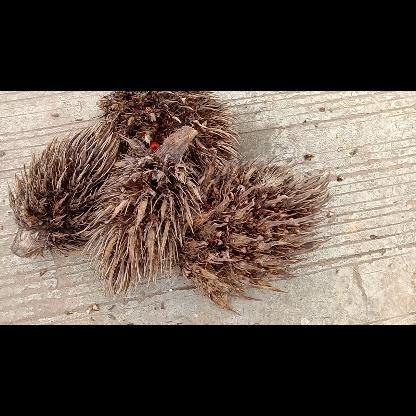Janjang kosong: (177, 155, 333, 315), (80, 126, 204, 298), (7, 120, 119, 258), (96, 90, 240, 174)
